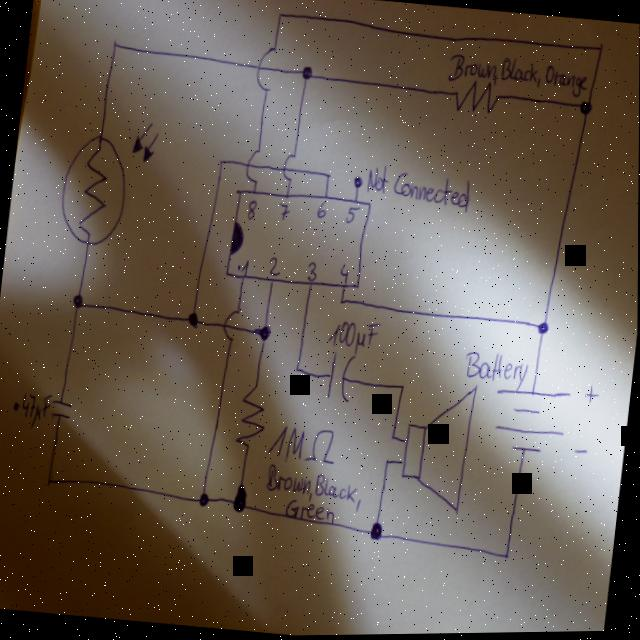capacitor: (323, 349, 358, 404), (46, 393, 73, 422)
crossover: (252, 39, 283, 96), (219, 306, 242, 343), (242, 144, 262, 183), (279, 149, 296, 183)
junction: (227, 482, 250, 517), (68, 287, 86, 311), (366, 517, 383, 541), (254, 321, 272, 343), (575, 96, 593, 118), (297, 61, 314, 82), (534, 318, 551, 337), (194, 487, 210, 507), (185, 309, 201, 327), (272, 5, 285, 22), (290, 360, 301, 376), (109, 36, 118, 50), (397, 379, 407, 391), (501, 549, 511, 561), (336, 295, 345, 307), (382, 456, 390, 466), (44, 474, 52, 484), (388, 431, 395, 441), (216, 155, 223, 165), (596, 42, 603, 52), (324, 170, 331, 179)
resistor: (53, 109, 160, 250), (233, 378, 268, 451), (445, 76, 501, 119)
source: (485, 382, 572, 458)
terminal: (350, 174, 364, 192)
text: (437, 47, 590, 99), (364, 160, 473, 214), (263, 459, 365, 512), (265, 420, 340, 467), (460, 345, 530, 393), (325, 315, 380, 356), (282, 496, 338, 525), (17, 388, 52, 429), (265, 254, 282, 277), (303, 259, 318, 281), (275, 198, 289, 221), (244, 197, 257, 219), (344, 204, 357, 223), (337, 261, 349, 280), (235, 257, 248, 274), (315, 199, 326, 218)
